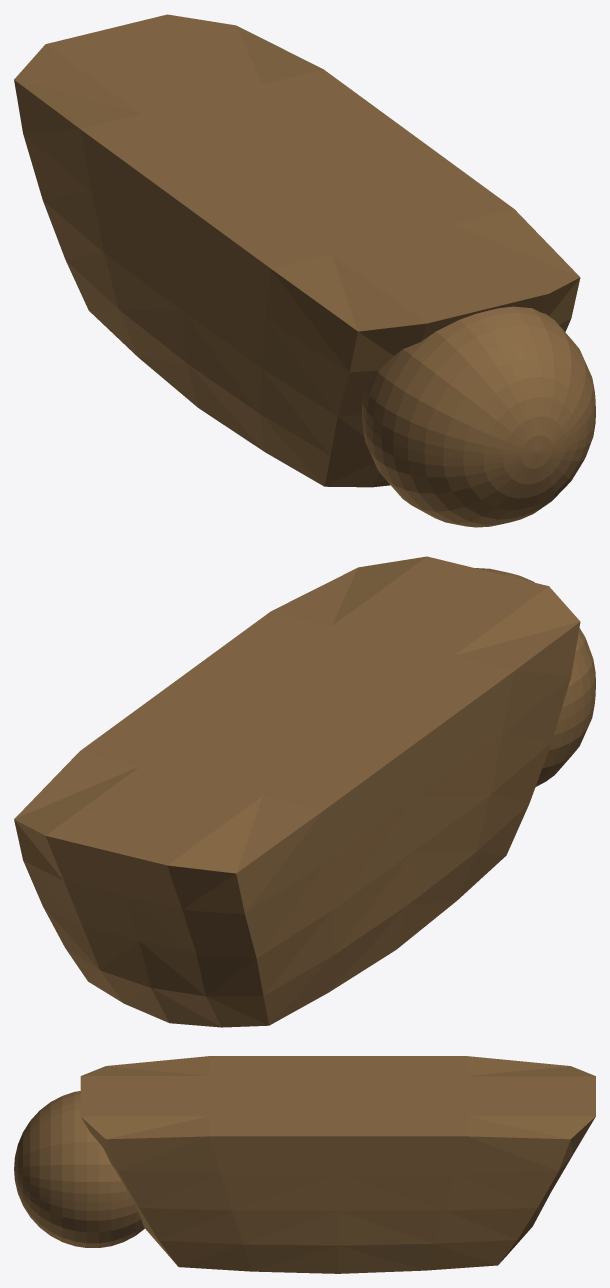
Rendered from LeftFingerJoint41y_joint_visu.dae.
3 views of the same model, one above another, from view 1: azimuth 30°, elevation 25°; view 2: azimuth 150°, elevation 25°; view 3: azimuth 270°, elevation 25° (orthographic). The views are drawn at different scales.
Parts seen in each view (by area): view 1: node; view 2: node; view 3: node.
Part boxes in pixels (x1=…): node: x1=14, y1=14, x2=595, y2=527; node: x1=14, y1=556, x2=595, y2=1027; node: x1=14, y1=1056, x2=595, y2=1273.
Size of the model in its own units: 0.00972 by 0.00867 by 0.0298.
